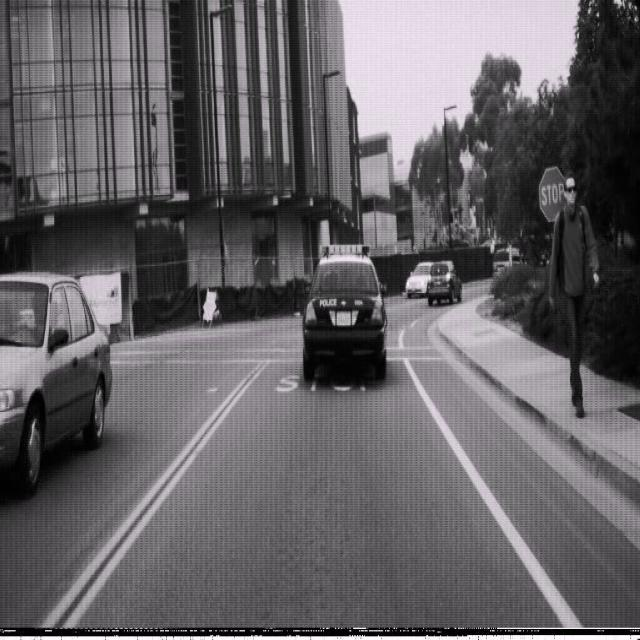stop_sign: (538, 164, 568, 223)
